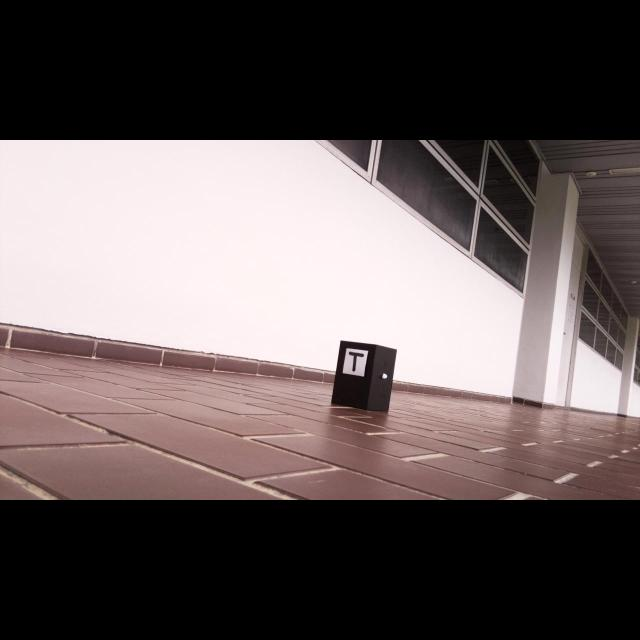T: (349, 352, 364, 372)
